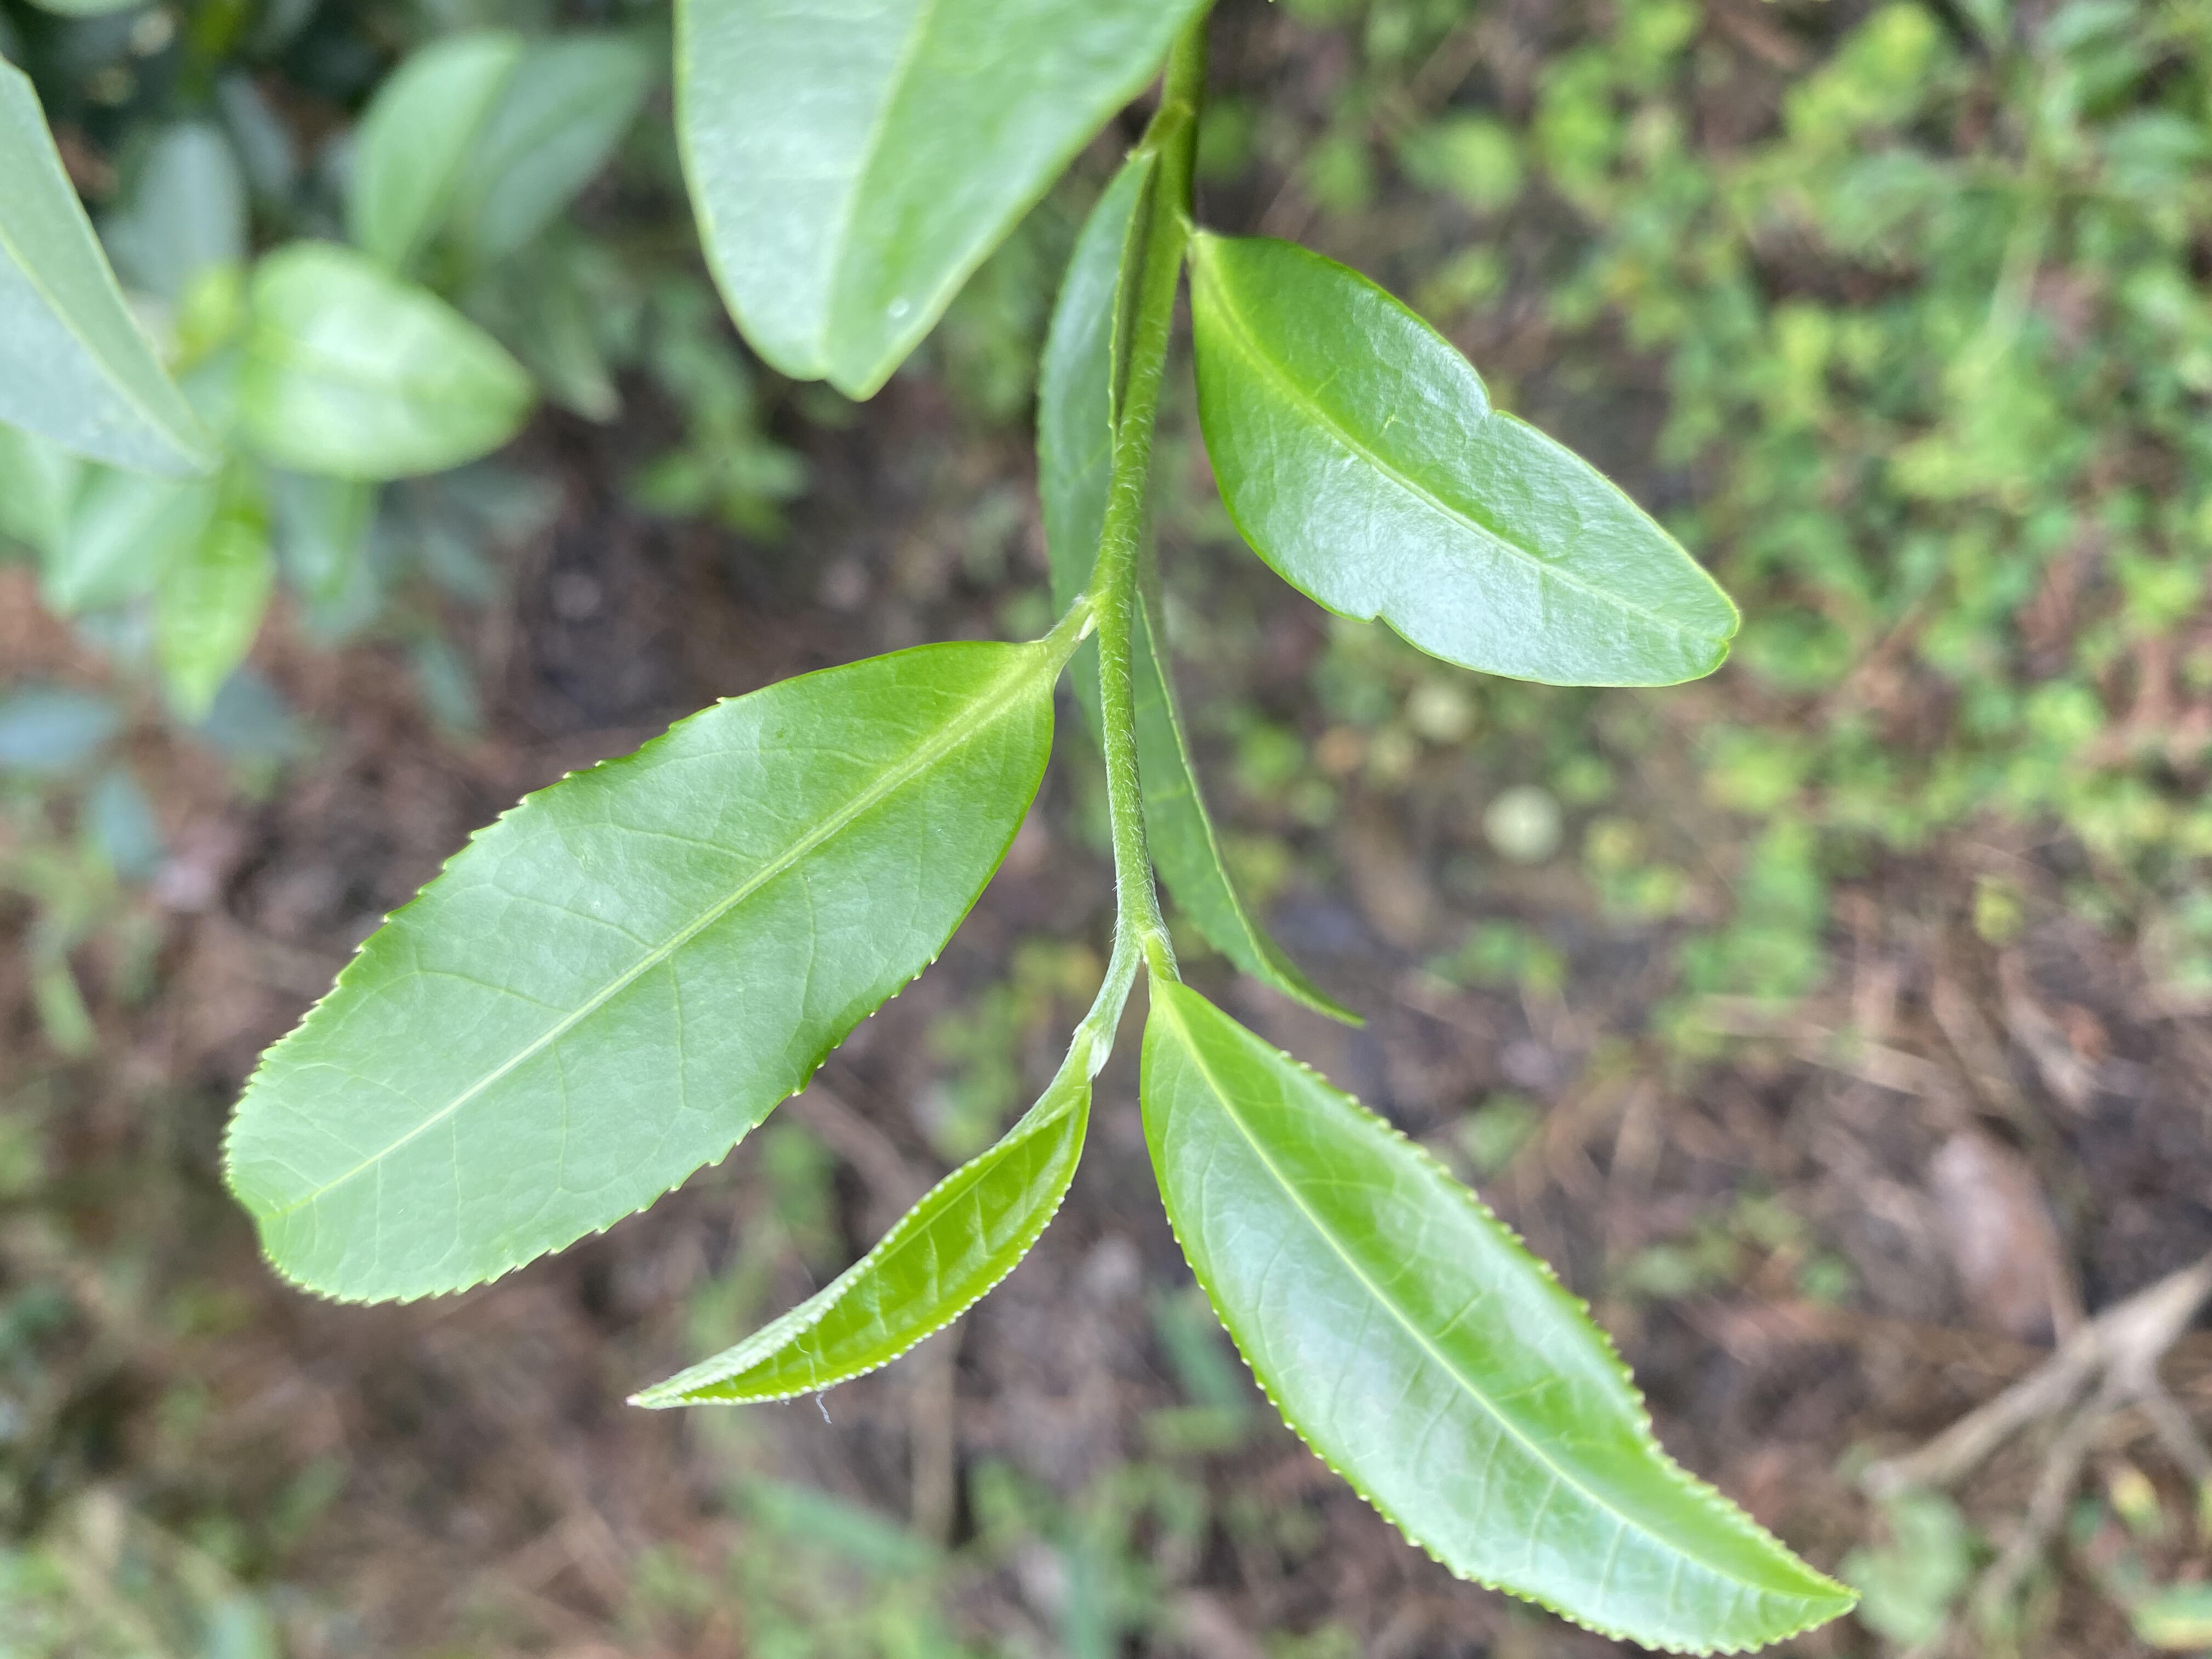healthy: (221, 636, 1054, 1309), (1137, 981, 1865, 1656), (1184, 232, 1743, 690)
